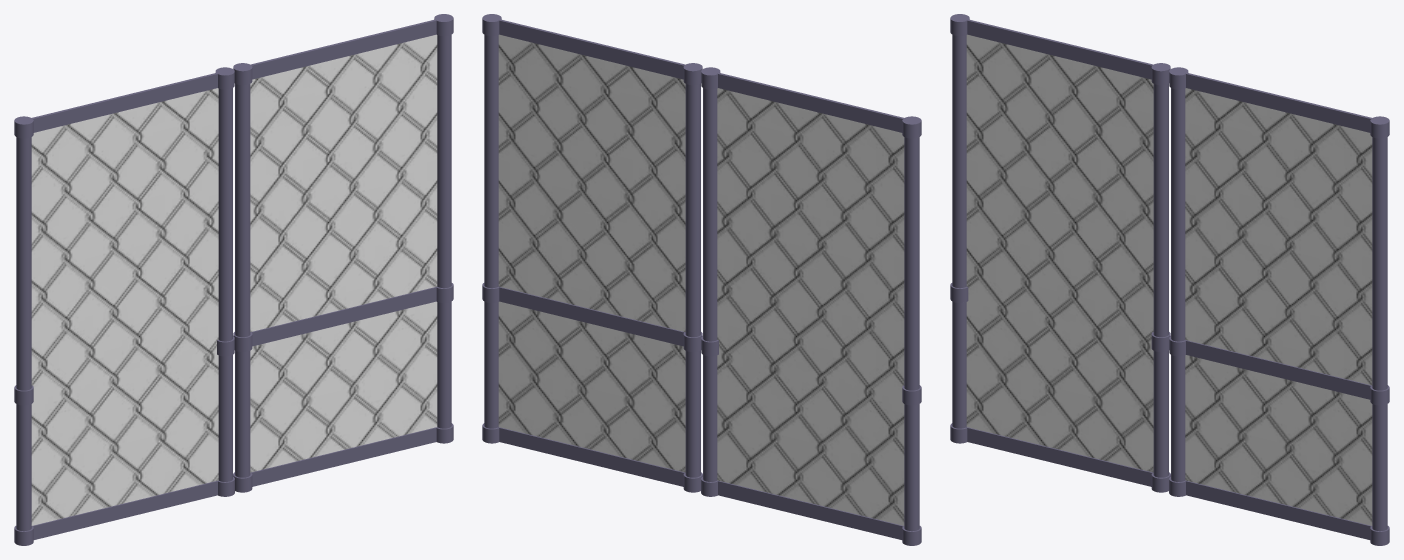
File: door.fbx
3 renders of one model, left to right at view 1: azimuth 30°, elevation 25°; view 2: azimuth 150°, elevation 25°; view 3: azimuth 330°, elevation 25°, orthographic.
Parts seen in each view (by area): view 1: Right grillage, Left grillage, Left Door, Right Door; view 2: Right grillage, Left grillage, Left Door, Right Door; view 3: Right grillage, Left grillage, Left Door, Right Door.
Part boxes in pixels (left/top/right/bottom): Right grillage: left=31, top=88, right=218, bottom=525; Left grillage: left=250, top=34, right=437, bottom=472; Left Door: left=233, top=14, right=453, bottom=492; Right Door: left=14, top=67, right=234, bottom=545; Right grillage: left=717, top=88, right=904, bottom=525; Left grillage: left=498, top=34, right=685, bottom=472; Left Door: left=482, top=14, right=702, bottom=492; Right Door: left=701, top=67, right=921, bottom=545; Right grillage: left=966, top=34, right=1153, bottom=472; Left grillage: left=1185, top=88, right=1372, bottom=525; Left Door: left=1169, top=67, right=1389, bottom=545; Right Door: left=950, top=14, right=1170, bottom=492.
Bounding box in the file's own units: 24.84 × 651 × 600.
2 materials, 1 textured.
